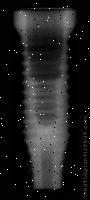Biomet 3i: (9, 9, 77, 191)
